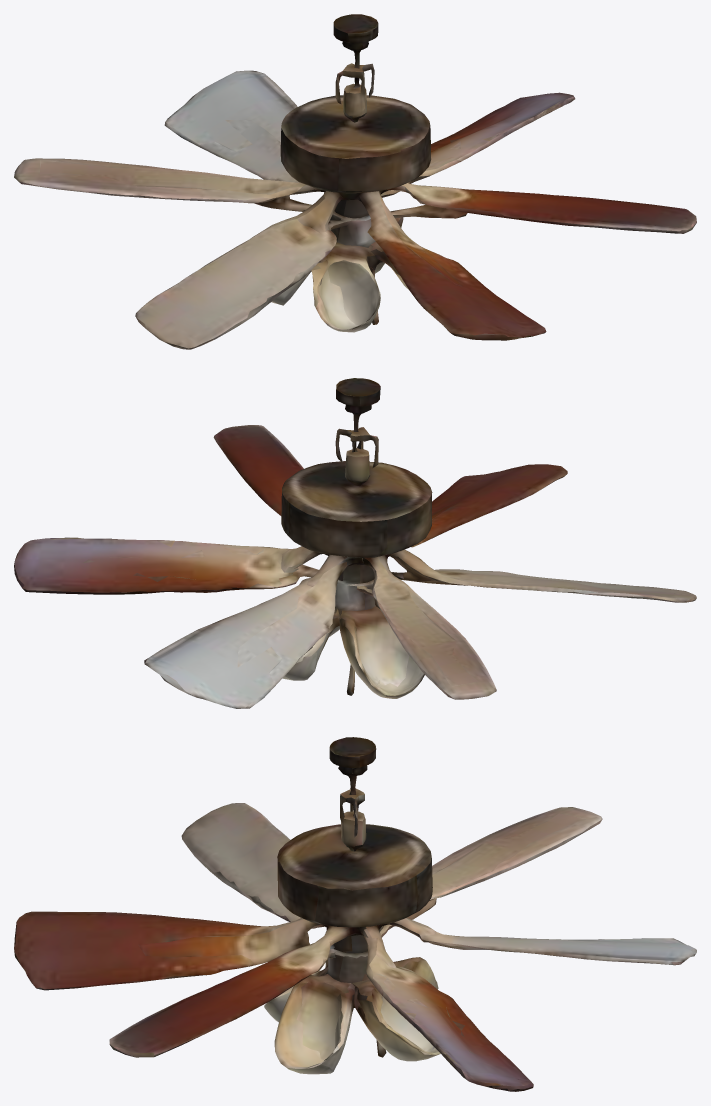
3 renders of one model, top to bottom at view 1: azimuth 30°, elevation 25°; view 2: azimuth 150°, elevation 25°; view 3: azimuth 270°, elevation 25°, orthographic. The views are drawn at different scales.
Parts seen in each view (by area): view 1: world; view 2: world; view 3: world.
Boxes of the visible parts, x1,y1,x2,y2 form: world: [14, 14, 696, 349]; world: [14, 378, 696, 708]; world: [14, 737, 696, 1091].
Size of the model in its own units: 0.2839 by 0.1459 by 0.2886.
Materials: 1 (1 with a texture image).
